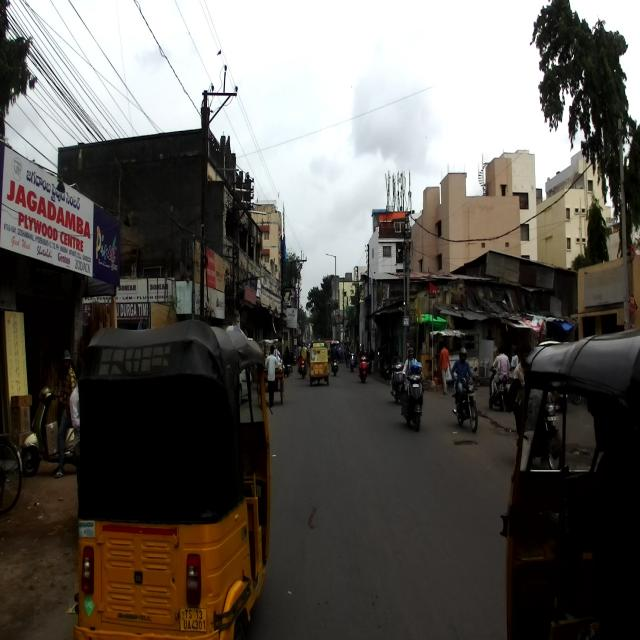autorickshaw: (72, 318, 270, 640), (499, 327, 639, 639)
motorcycle: (451, 365, 481, 434)
scooter: (19, 386, 82, 477), (403, 365, 426, 430)
